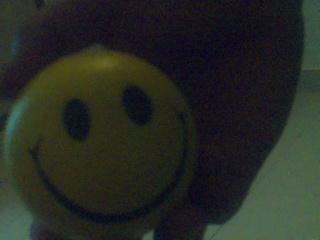ball: (3, 51, 196, 239)
